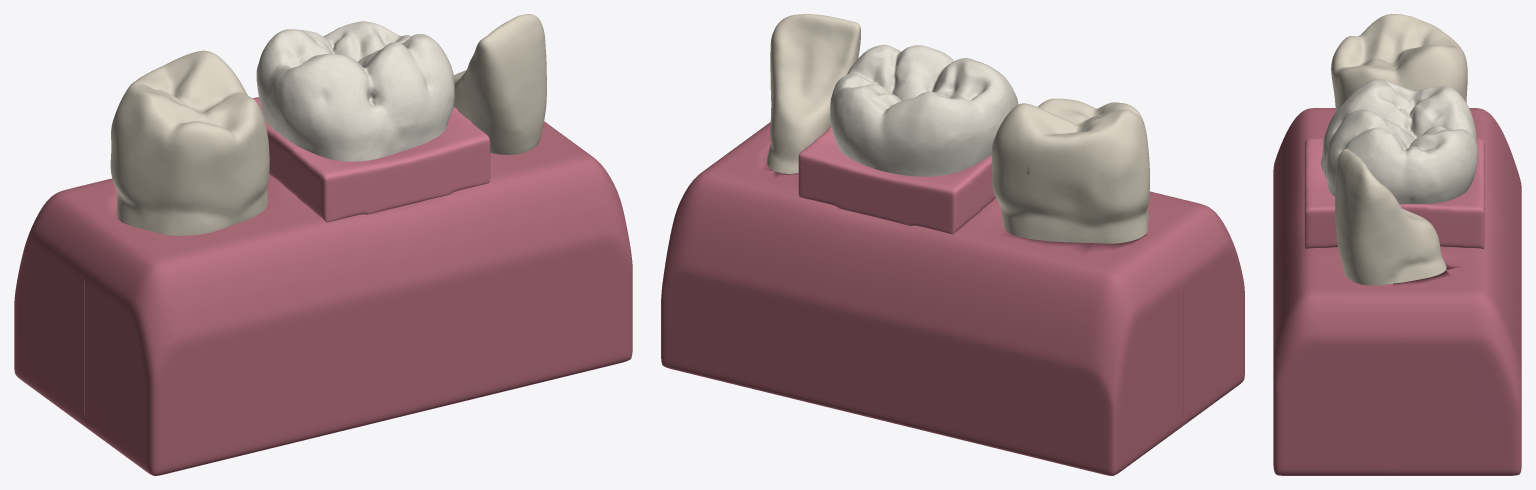
Rendered from implants.glb.
The picture shows the model from 3 angles, left to right: view 1: azimuth 30°, elevation 25°; view 2: azimuth 150°, elevation 25°; view 3: azimuth 270°, elevation 25°; orthographic projection. The views are drawn at different scales.
Visible parts, largest first — view 1: SEC_Gum_Ridge_Front, SEC_ADJ_Left, IMP_Denture_Tooth, SEC_Gum_Ridge, IMP_Crown, IMP_Denture_Base, SEC_ADJ_Right; view 2: SEC_Gum_Ridge, SEC_ADJ_Left, IMP_Denture_Tooth, SEC_Gum_Ridge_Front, IMP_Crown, IMP_Denture_Base, SEC_ADJ_Right; view 3: SEC_Gum_Ridge, SEC_Gum_Ridge_Front, IMP_Denture_Tooth, IMP_Crown, SEC_ADJ_Right, SEC_ADJ_Left, IMP_Denture_Base.
Part boxes in pixels (bbox=[...]): SEC_Gum_Ridge_Front: bbox=[84, 123, 632, 475]; SEC_ADJ_Left: bbox=[110, 50, 269, 235]; IMP_Denture_Tooth: bbox=[256, 21, 454, 161]; SEC_Gum_Ridge: bbox=[14, 121, 547, 426]; IMP_Crown: bbox=[256, 21, 454, 161]; IMP_Denture_Base: bbox=[253, 97, 490, 222]; SEC_ADJ_Right: bbox=[453, 14, 546, 154]; SEC_Gum_Ridge: bbox=[661, 139, 1183, 475]; SEC_ADJ_Left: bbox=[991, 98, 1149, 243]; IMP_Denture_Tooth: bbox=[830, 44, 1018, 176]; SEC_Gum_Ridge_Front: bbox=[745, 122, 1244, 426]; IMP_Crown: bbox=[830, 45, 1018, 176]; IMP_Denture_Base: bbox=[798, 126, 995, 234]; SEC_ADJ_Right: bbox=[767, 14, 860, 173]; SEC_Gum_Ridge: bbox=[1393, 108, 1521, 475]; SEC_Gum_Ridge_Front: bbox=[1273, 108, 1392, 475]; IMP_Denture_Tooth: bbox=[1321, 79, 1477, 204]; IMP_Crown: bbox=[1321, 79, 1477, 204]; SEC_ADJ_Right: bbox=[1335, 149, 1446, 285]; SEC_ADJ_Left: bbox=[1331, 14, 1467, 111]; IMP_Denture_Base: bbox=[1304, 138, 1484, 248].
Size of the model in its own units: 3.13 by 2.01 by 1.57.
